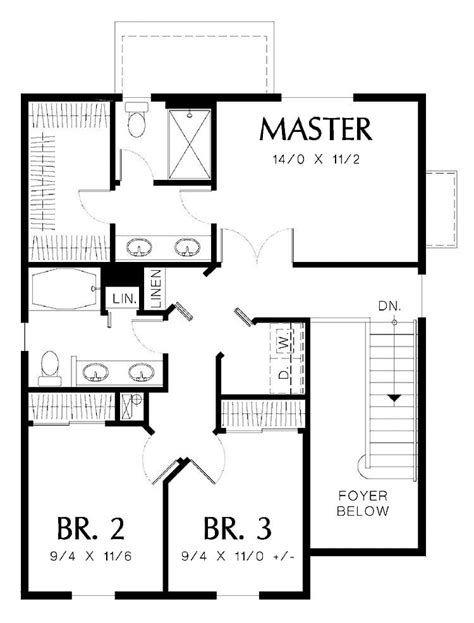room: (215, 99, 423, 264), (25, 390, 165, 593), (167, 398, 306, 594), (25, 265, 166, 389), (25, 99, 113, 264), (113, 100, 213, 182), (113, 183, 214, 264), (218, 319, 308, 397)
